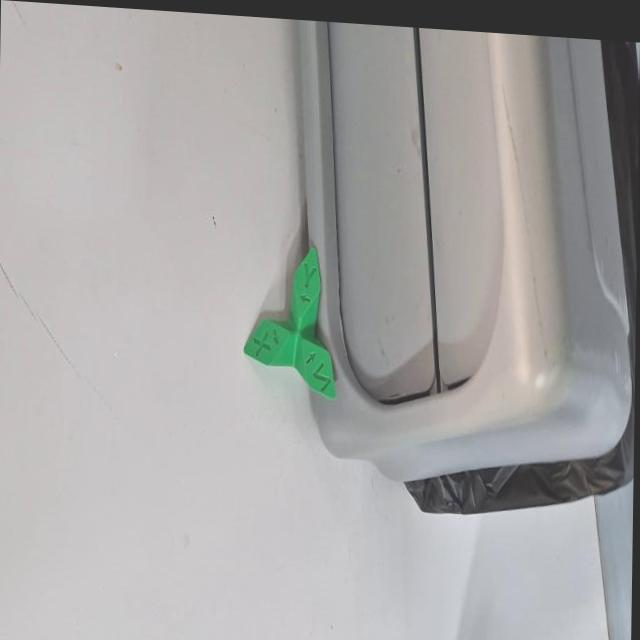eje: (241, 238, 340, 403)
